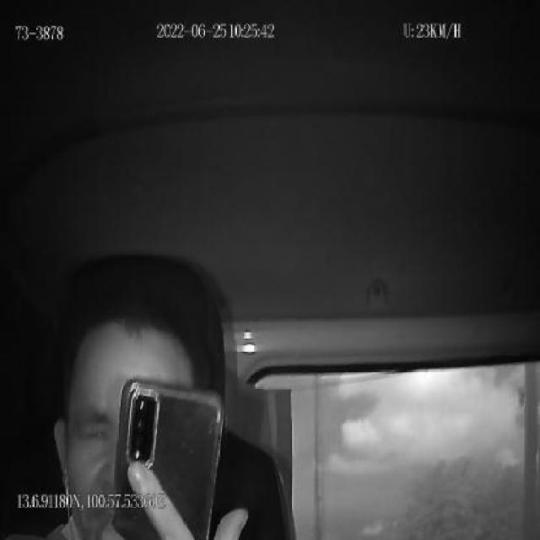phone: (112, 374, 222, 540)
